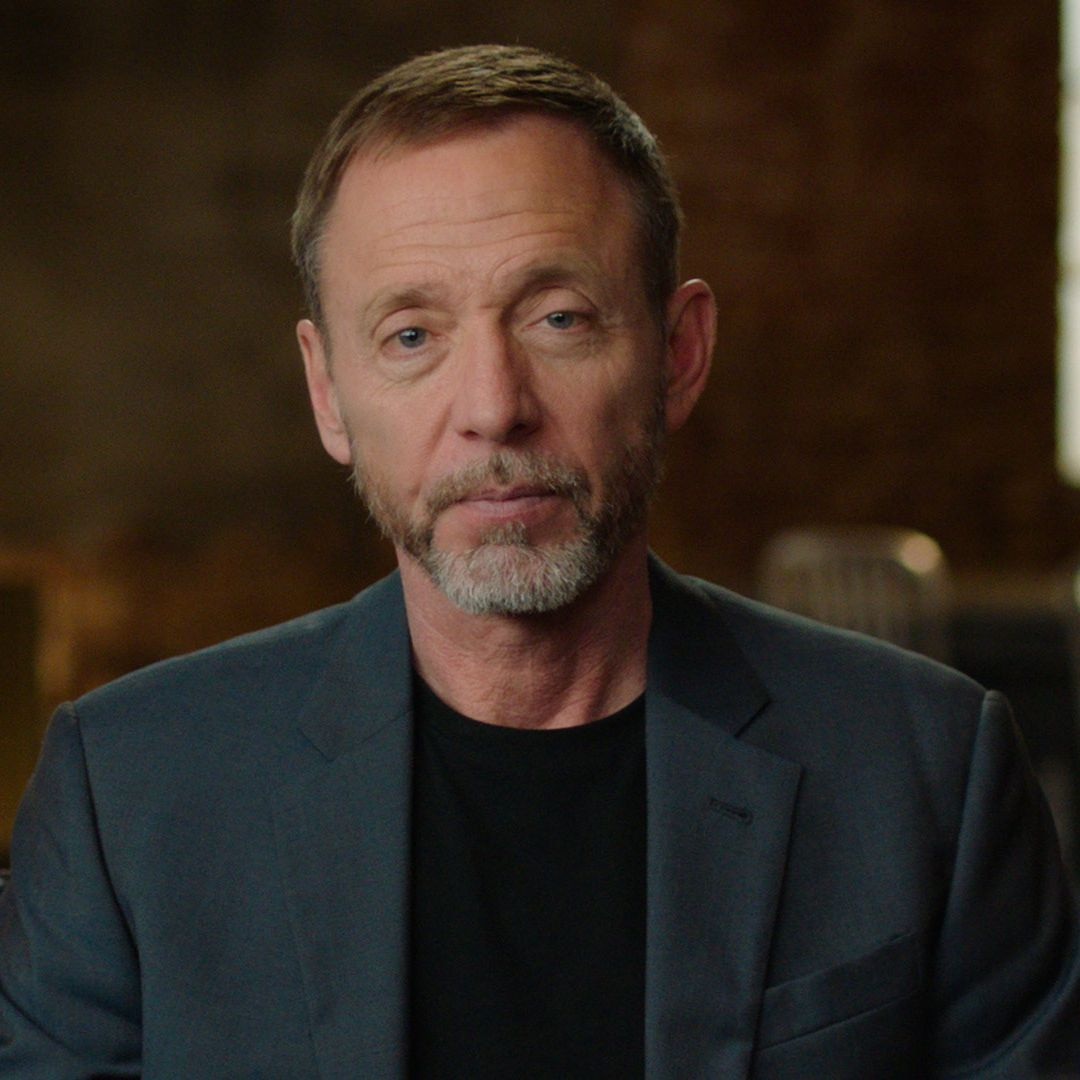person: (1, 33, 1080, 1080)
